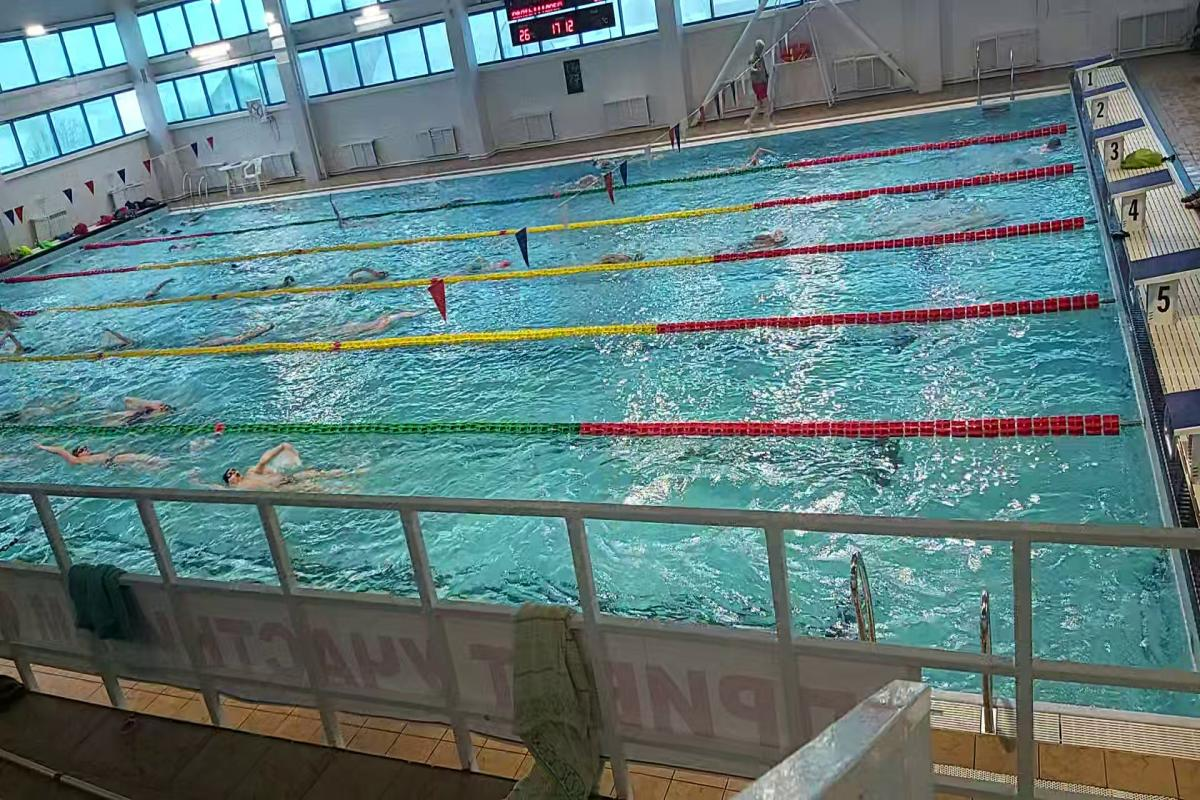swimmer: (216, 440, 360, 492), (34, 432, 172, 473), (104, 389, 187, 426), (326, 310, 435, 336), (202, 316, 278, 341), (324, 197, 376, 232), (128, 275, 182, 303), (734, 228, 790, 251), (462, 248, 514, 272), (347, 259, 394, 280), (95, 329, 146, 347), (3, 330, 37, 355), (1031, 135, 1072, 155), (596, 247, 648, 262), (255, 270, 298, 286)
